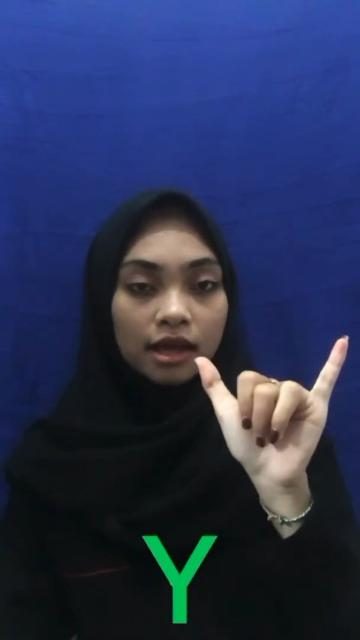Y: (194, 335, 350, 485)
